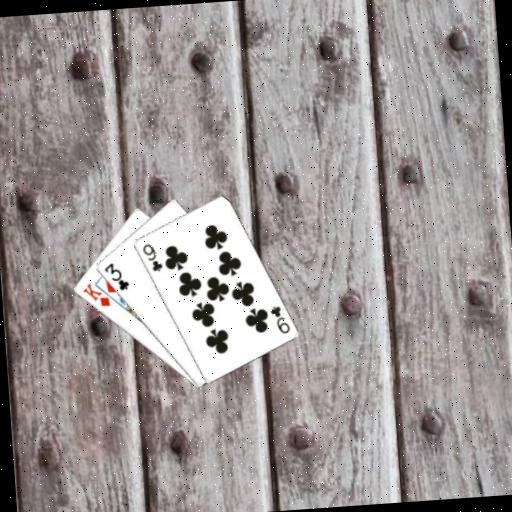3C: (100, 259, 131, 293)
9C: (139, 240, 165, 274), (267, 302, 292, 336)
KD: (79, 279, 112, 310)
